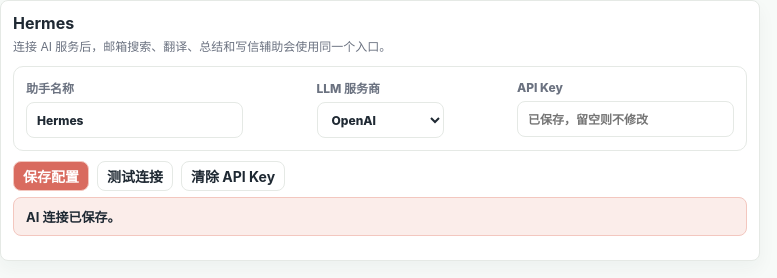
Test case: HermesRuntimeSettingsPanel › tests unsaved provider input through the provider probe without leaking the key
Expected: the text "AI 连接已保存。" is shown, [13,197,747,236]
Select "DeepSeek" in the dropdown labelled "LLM 服务商" at (380, 120), box [316,102,444,138]
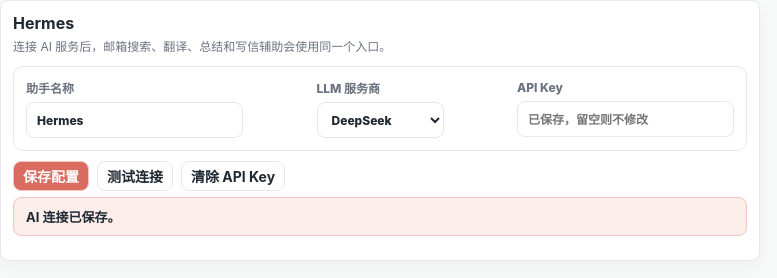
Type "probe-secret" into the password field labelled "API Key" at (626, 119), box [517,101,734,137]
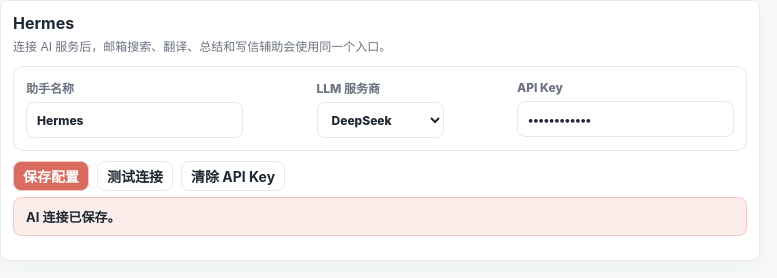
Click the button "测试连接" at (135, 176), box [97,161,173,191]
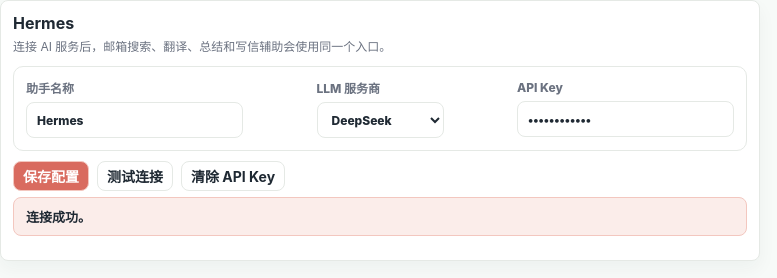
Result: the text "连接成功。" is shown at [13,197,747,236]
